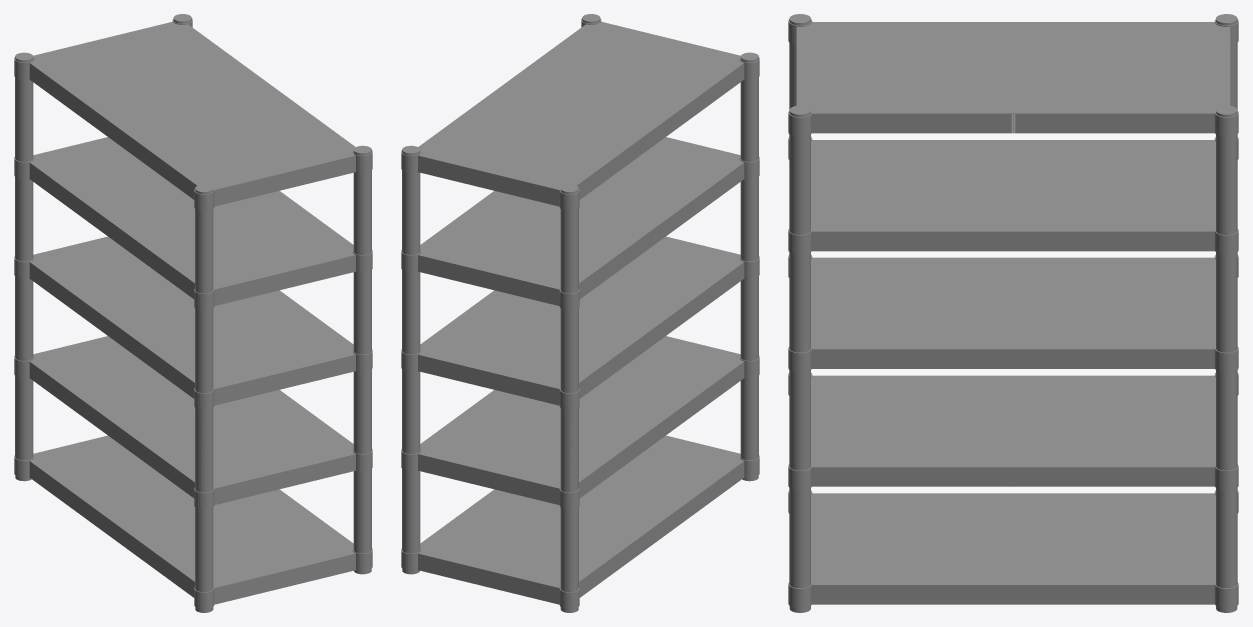
File: shelf.fbx
3 renders of one model, left to right at view 1: azimuth 30°, elevation 25°; view 2: azimuth 150°, elevation 25°; view 3: azimuth 270°, elevation 25°, orthographic. The views are drawn at different scales.
Visible parts, largest first — view 1: 立方体.004; view 2: 立方体.004; view 3: 立方体.004.
Boxes of the visible parts, <box> form: 立方体.004: <box>14,14,372,612</box>; 立方体.004: <box>401,14,759,612</box>; 立方体.004: <box>788,14,1238,612</box>.
Bounding box in the file's own units: 222 × 507 × 416.
